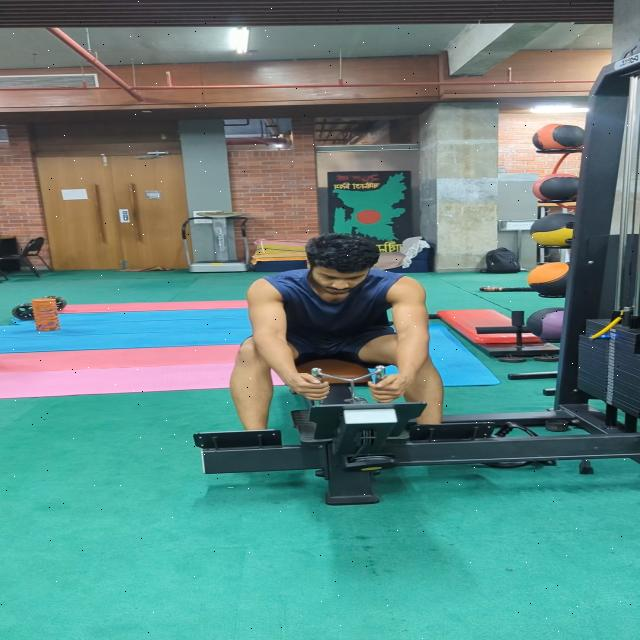Normal_RowingMachineExercise: (224, 230, 451, 440)
